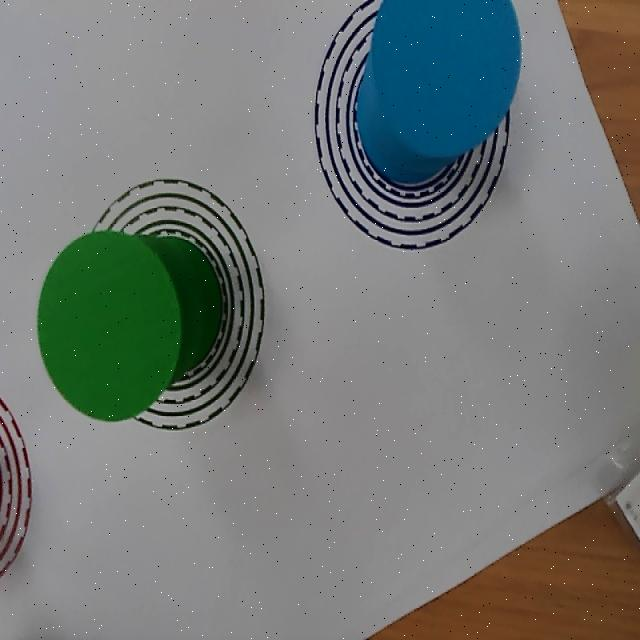g: (38, 230, 181, 422)
